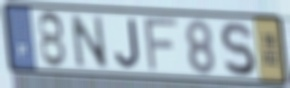8: (183, 17, 218, 76), (36, 10, 68, 70)
F: (142, 17, 181, 74)
J: (113, 17, 143, 70)
N: (68, 11, 111, 70)
S: (218, 20, 258, 78)
